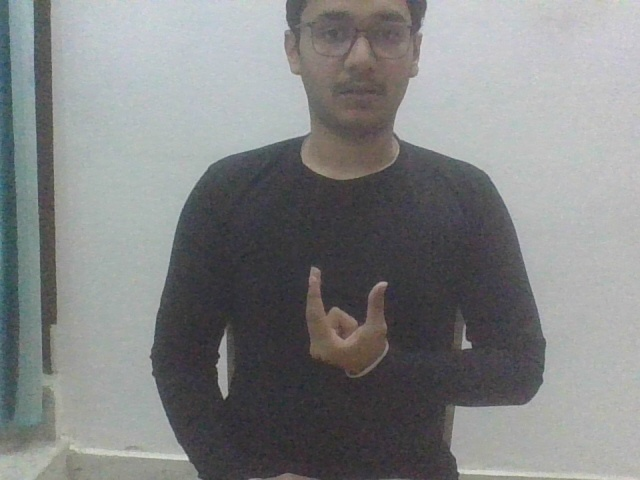U: (300, 258, 396, 384)
